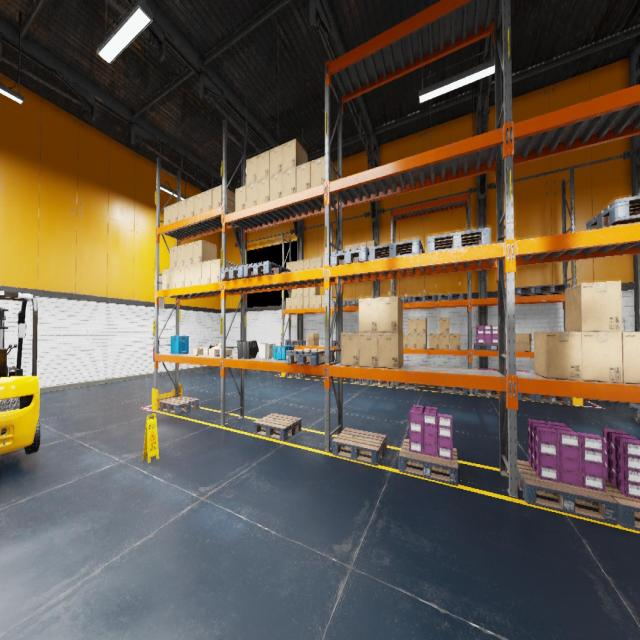box: (565, 280, 622, 332), (534, 332, 582, 380), (581, 332, 623, 383), (311, 156, 336, 198), (622, 331, 640, 384), (378, 332, 403, 368), (378, 296, 402, 332), (282, 138, 308, 171), (359, 332, 378, 368), (341, 332, 359, 367), (359, 297, 377, 332), (210, 258, 234, 283), (193, 239, 217, 264), (212, 185, 235, 211), (296, 161, 311, 192), (282, 167, 296, 196), (270, 144, 282, 176), (258, 150, 270, 181), (270, 172, 282, 200), (258, 176, 270, 204), (246, 155, 257, 185), (516, 333, 532, 351), (246, 182, 257, 208), (235, 185, 246, 211), (201, 260, 211, 284), (203, 188, 212, 212), (194, 192, 203, 215), (186, 195, 194, 218), (185, 242, 193, 265), (177, 244, 185, 267), (178, 199, 186, 221), (193, 263, 201, 285), (449, 333, 460, 349), (169, 268, 177, 288), (162, 269, 170, 289), (429, 333, 439, 349), (439, 317, 449, 333), (306, 334, 319, 346), (185, 264, 192, 286), (170, 246, 177, 268), (439, 334, 449, 349), (416, 318, 426, 333), (171, 202, 178, 223), (177, 266, 184, 287), (209, 343, 221, 355), (163, 205, 170, 225), (416, 334, 426, 348), (408, 318, 416, 333), (408, 334, 416, 348), (322, 294, 330, 307), (309, 286, 319, 296), (220, 349, 232, 356), (210, 348, 220, 356), (366, 240, 376, 248), (316, 295, 322, 308), (309, 296, 315, 308), (303, 296, 309, 308), (291, 297, 297, 309), (193, 348, 203, 355), (297, 297, 303, 308), (316, 257, 322, 268), (403, 333, 407, 348), (286, 297, 291, 309), (310, 258, 315, 269), (304, 259, 309, 270), (297, 288, 303, 297), (291, 288, 297, 297), (286, 262, 292, 271), (298, 260, 303, 270), (292, 261, 297, 271), (303, 288, 309, 296), (345, 244, 351, 251), (203, 348, 209, 354), (352, 243, 358, 249), (322, 257, 325, 267), (359, 242, 366, 246)
forklift: (0, 290, 40, 453)
pallets: (517, 460, 618, 525), (399, 439, 458, 485), (332, 428, 387, 465), (586, 195, 640, 230), (605, 478, 640, 531), (427, 228, 490, 252), (254, 413, 302, 441), (369, 238, 424, 261), (286, 348, 334, 366), (331, 246, 369, 266), (244, 261, 290, 277), (160, 396, 200, 414), (220, 265, 264, 281), (532, 284, 570, 295), (536, 394, 571, 404), (505, 286, 535, 296), (442, 386, 467, 394), (473, 389, 498, 397), (396, 382, 418, 390), (412, 295, 437, 302), (438, 293, 463, 300), (474, 344, 498, 350), (351, 378, 370, 385), (370, 380, 391, 386), (518, 393, 536, 400), (346, 299, 359, 306), (332, 300, 346, 306), (286, 341, 306, 345), (286, 373, 306, 377), (400, 296, 412, 302), (332, 341, 338, 346)
